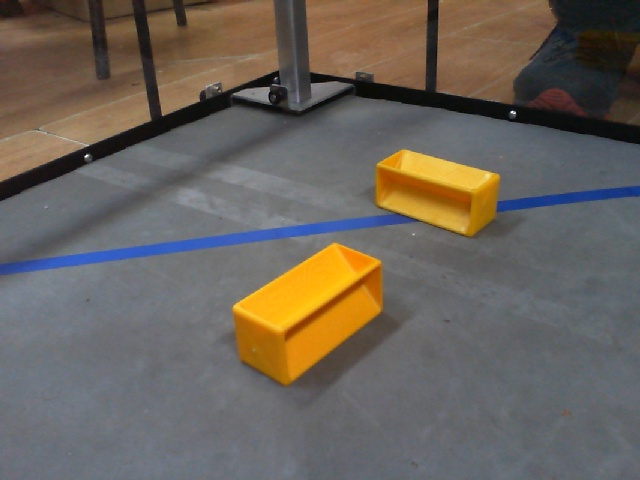YellowSample: (228, 240, 388, 387), (369, 144, 501, 238)
